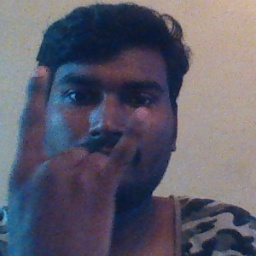V: (4, 65, 153, 253)
